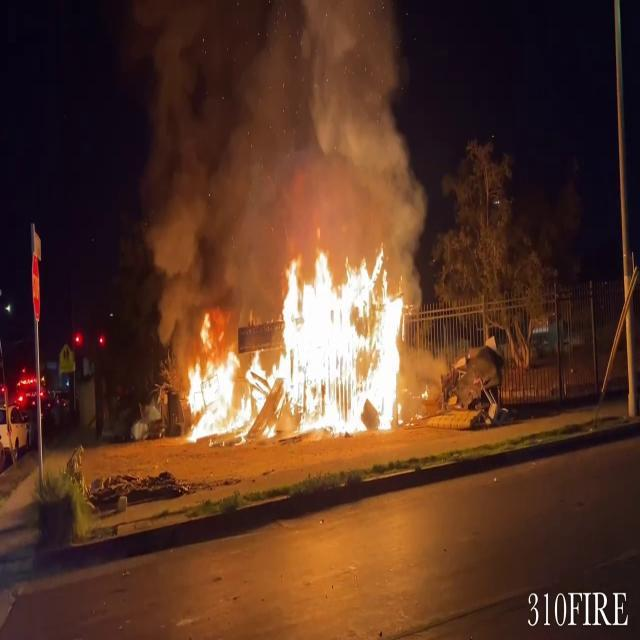Fire: (178, 228, 426, 441)
Smoke: (126, 0, 432, 269)
